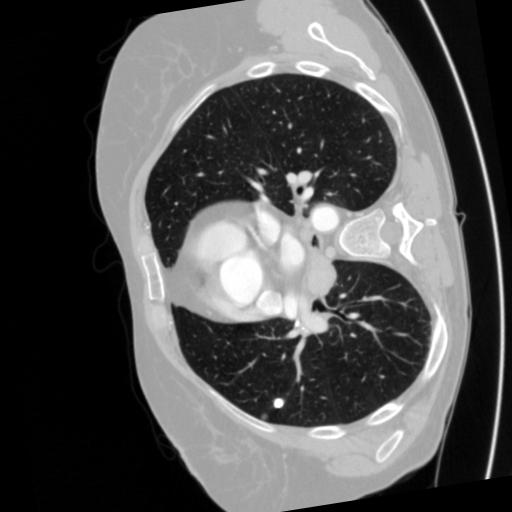nodule: (270, 396, 287, 413)
